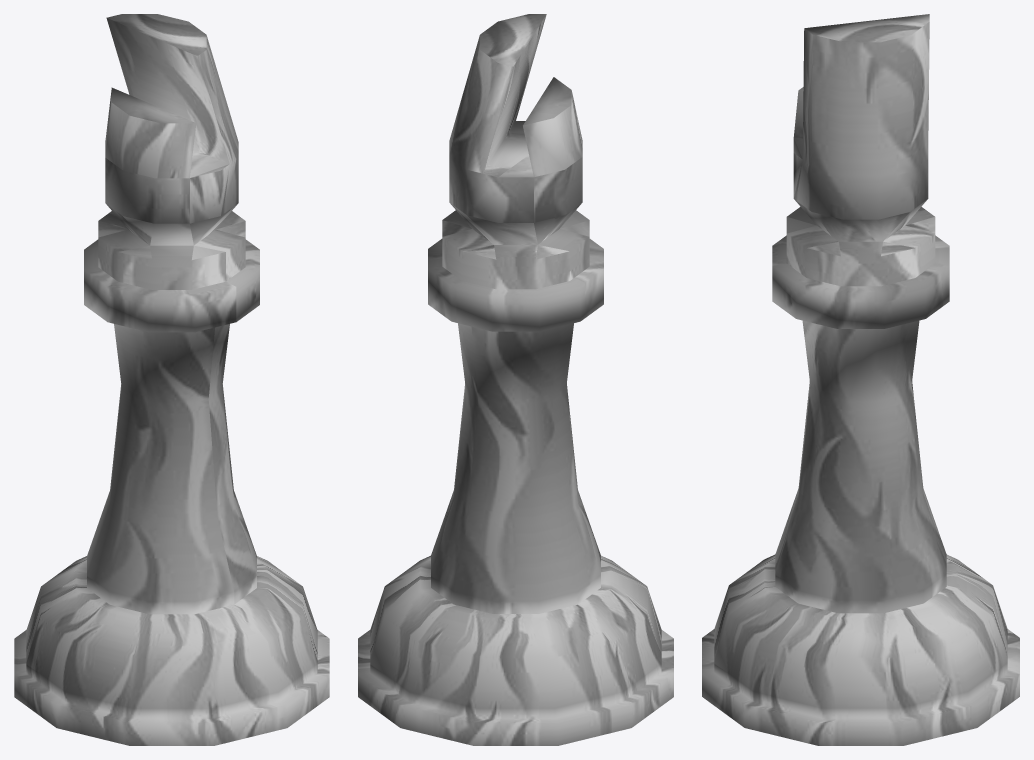
Rendered from Bishop.glb.
3 views of the same model, side by side, from view 1: azimuth 30°, elevation 25°; view 2: azimuth 150°, elevation 25°; view 3: azimuth 270°, elevation 25° (orthographic).
Visible parts, largest first — view 1: Bishop; view 2: Bishop; view 3: Bishop.
Boxes of the visible parts, x1=… form: Bishop: x1=14, y1=14, x2=329, y2=745; Bishop: x1=358, y1=14, x2=673, y2=745; Bishop: x1=702, y1=14, x2=1019, y2=745.
Size of the model in its own units: 0.1256 by 0.283 by 0.1256.
Materials: 1 (1 with a texture image).
